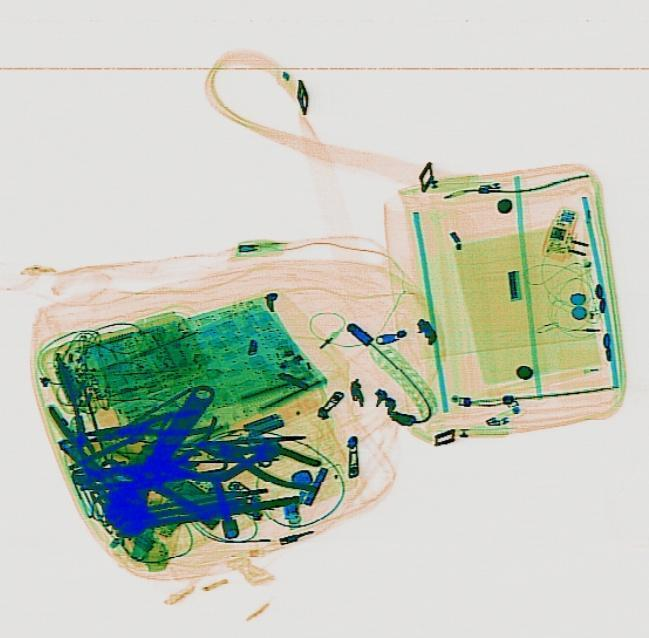Pliers: (190, 426, 329, 495), (81, 407, 216, 452)
Wrench: (92, 372, 224, 542)
